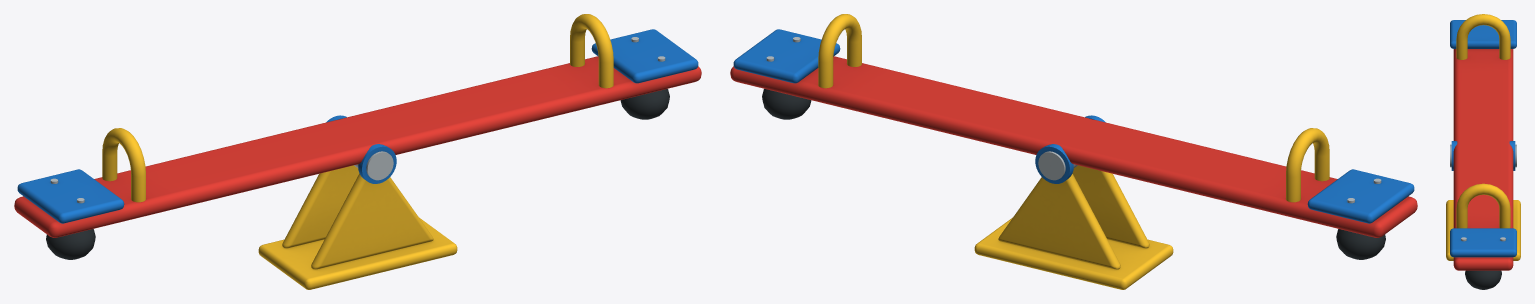
Rendered from seesaw.fbx.
3 renders of one model, left to right at view 1: azimuth 30°, elevation 25°; view 2: azimuth 150°, elevation 25°; view 3: azimuth 270°, elevation 25°, orthographic. The views are drawn at different scales.
Visible parts, largest first — view 1: seesaw; view 2: seesaw; view 3: seesaw.
Part boxes in pixels (x1,y1,x2,y2): seesaw: (14,14,701,289); seesaw: (730,14,1417,289); seesaw: (1446,14,1520,289).
Size of the model in its own units: 60000 by 16000 by 8000.
Materials: 1 (1 with a texture image).
